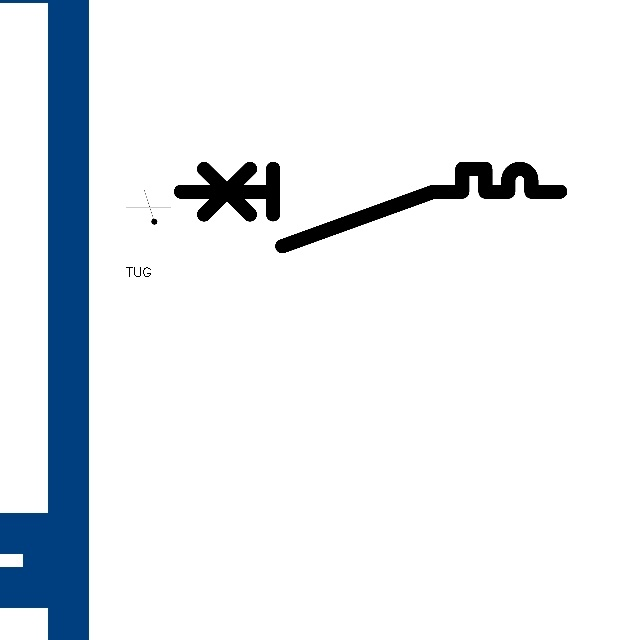interruptor_termomagnetico: (171, 159, 570, 256)
